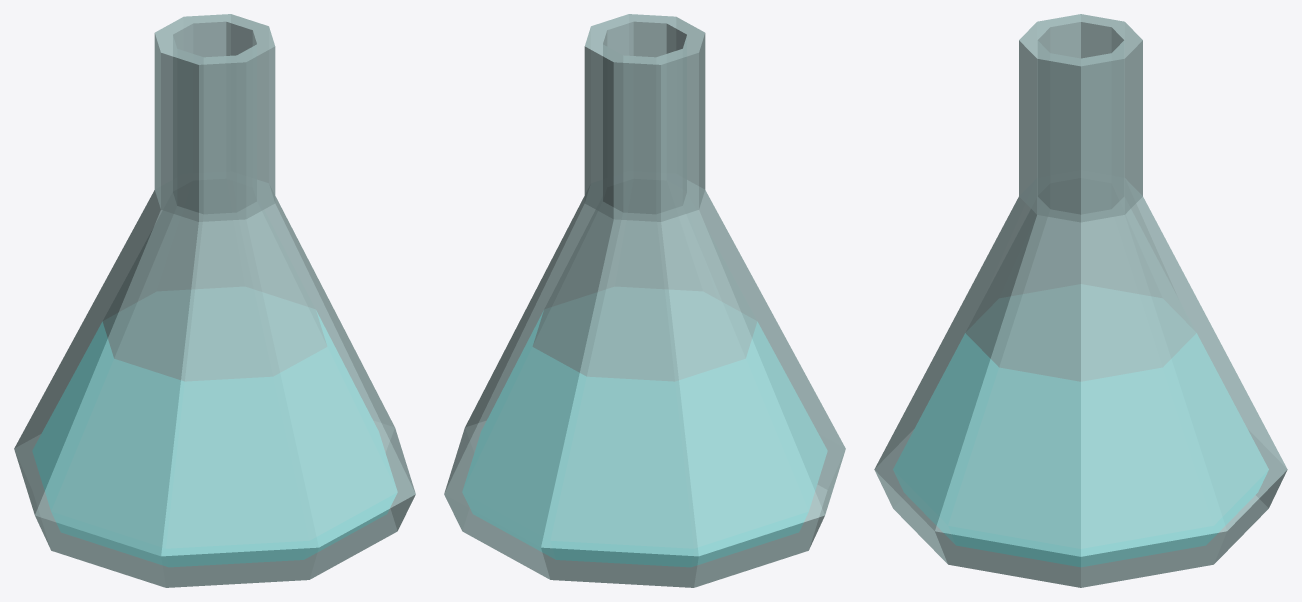
The model's file is bottoles.fbx.
3 views of the same model, side by side, from view 1: azimuth 30°, elevation 25°; view 2: azimuth 150°, elevation 25°; view 3: azimuth 270°, elevation 25° (orthographic).
Parts seen in each view (by area): view 1: Potion02_0.16x0.16x0.2; view 2: Potion02_0.16x0.16x0.2; view 3: Potion02_0.16x0.16x0.2.
Boxes of the visible parts, bbox=[...] form: Potion02_0.16x0.16x0.2: bbox=[14, 14, 415, 587]; Potion02_0.16x0.16x0.2: bbox=[444, 14, 845, 587]; Potion02_0.16x0.16x0.2: bbox=[874, 14, 1287, 587].
Size of the model in its own units: 24 by 30 by 24.
